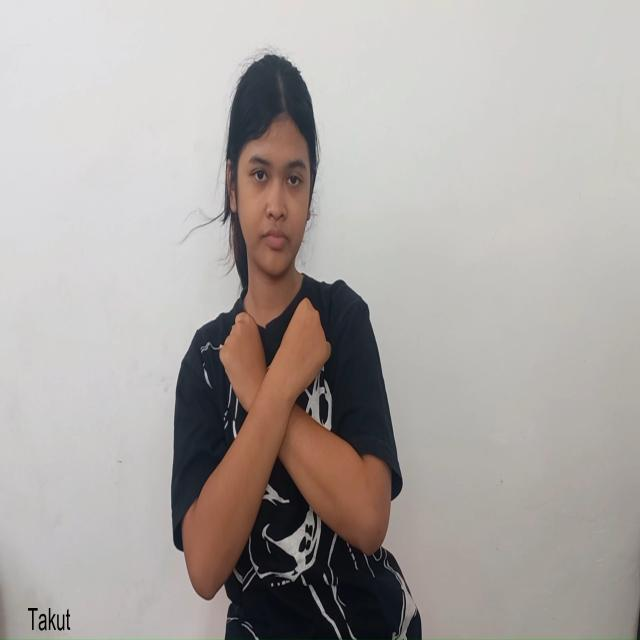Takut -BISINDO-: (181, 295, 363, 603)
